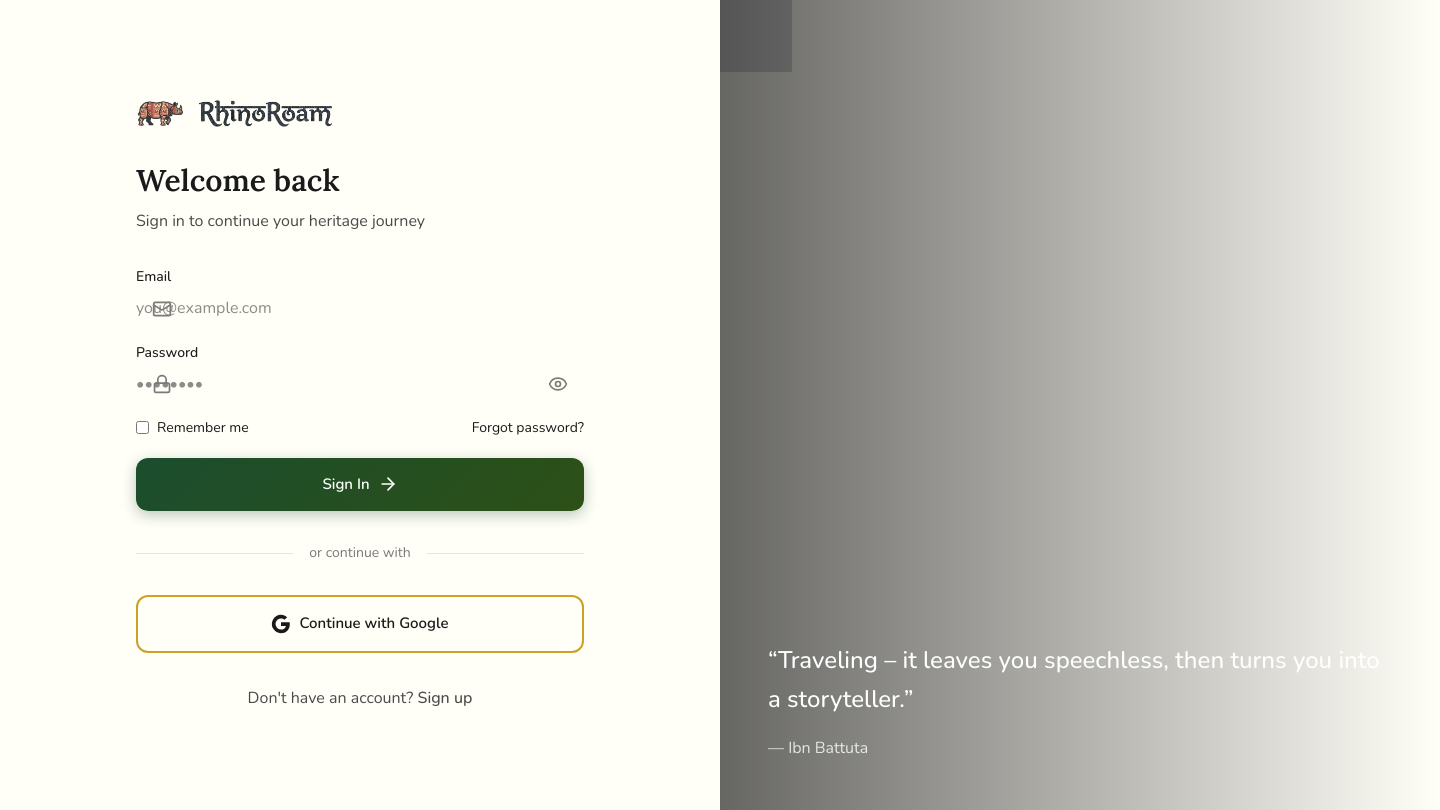
Test: SignInPage › toggles to register mode
Note: Find the "Sign up" toggle button
Click the button "Sign up": click(445, 698) [418,685,472,712]
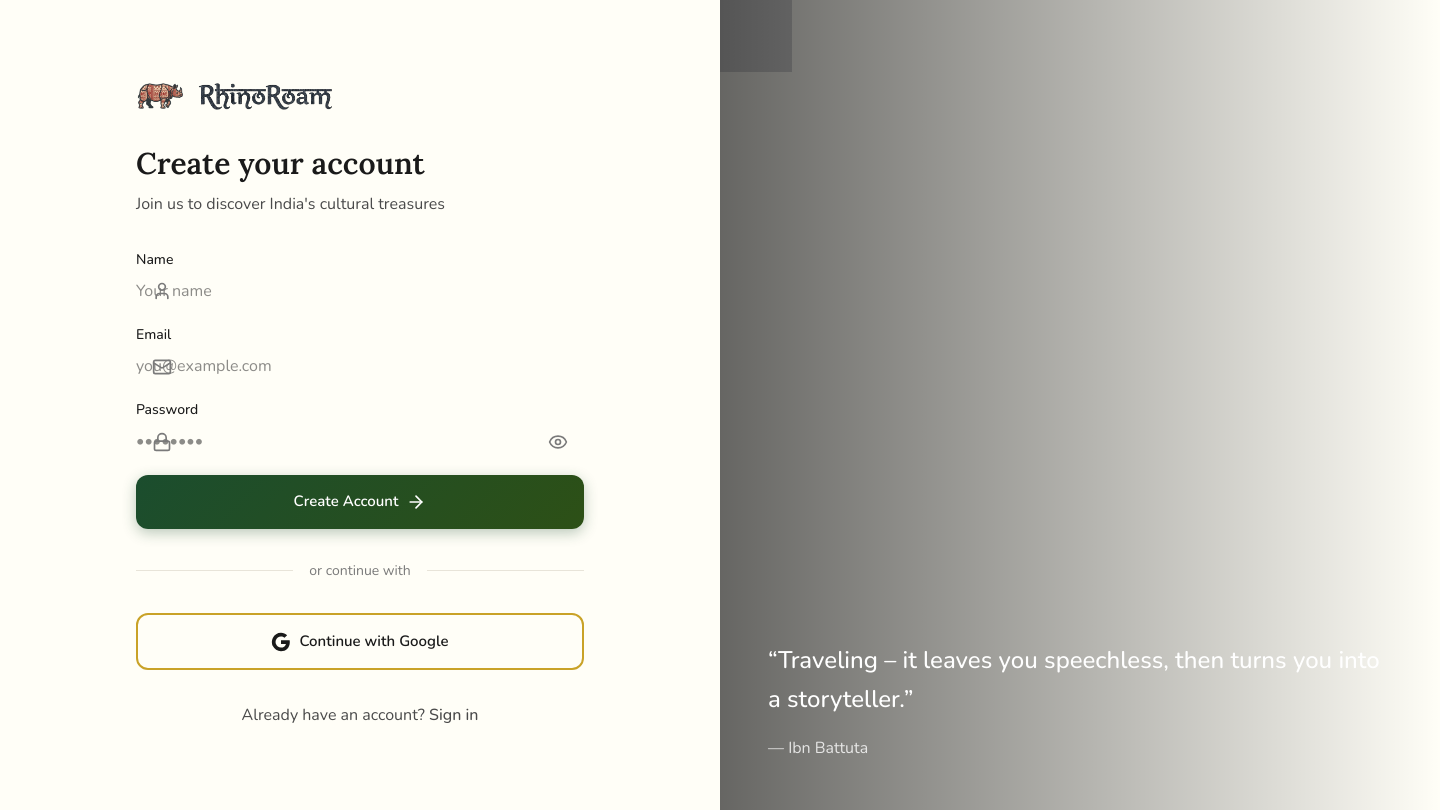
Check: the field with placeholder "Your name" is shown, box [136,278,340,305]
Check: the button "Create Account" is shown, box [136,475,584,529]
